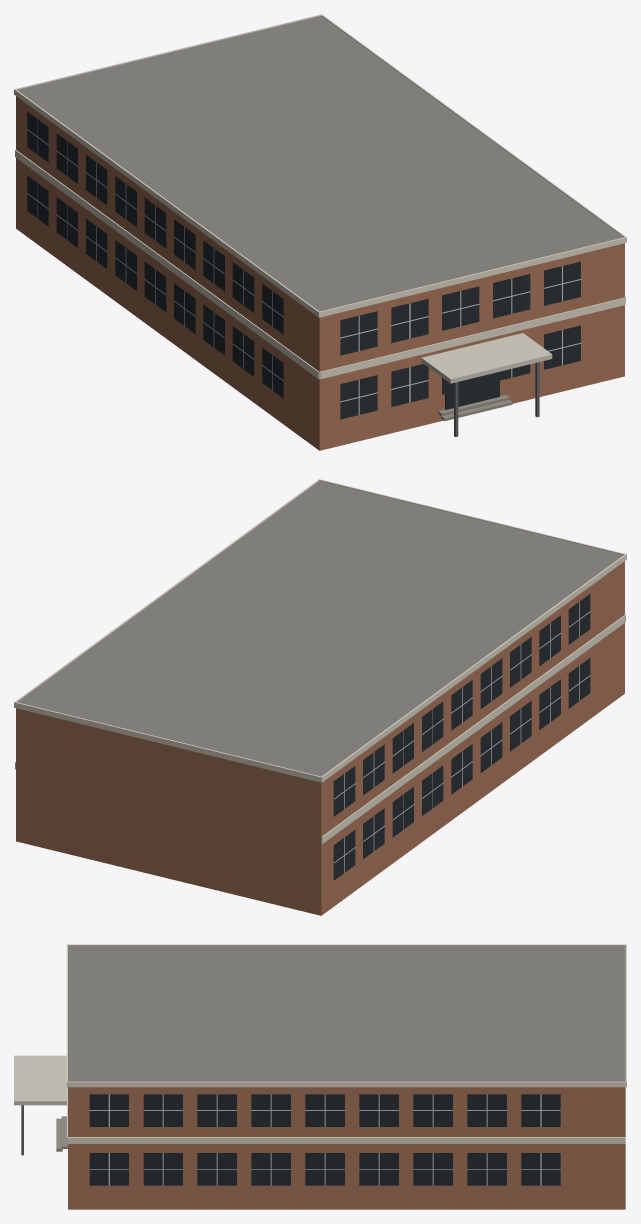
Rendered from cazort-johnson-clinic.glb.
3 views of the same model, one above another, from view 1: azimuth 30°, elevation 25°; view 2: azimuth 150°, elevation 25°; view 3: azimuth 270°, elevation 25° (orthographic). The views are drawn at different scales.
Parts seen in each view (by area): view 1: cazort_roof, cazort_brick, cazort_glass, cazort_stone, cazort_canopy, cazort_sash, cazort_base; view 2: cazort_roof, cazort_brick, cazort_glass, cazort_stone, cazort_sash; view 3: cazort_roof, cazort_brick, cazort_glass, cazort_stone, cazort_canopy, cazort_sash, cazort_base.
Boxes of the visible parts, box(x1,y1,x2,y2) form: cazort_roof: box(17, 16, 623, 311); cazort_brick: box(16, 96, 624, 450); cazort_glass: box(27, 112, 580, 419); cazort_stone: box(14, 14, 626, 379); cazort_canopy: box(421, 333, 552, 383); cazort_sash: box(27, 119, 581, 414); cazort_base: box(438, 395, 512, 420); cazort_roof: box(17, 481, 623, 776); cazort_brick: box(16, 561, 624, 915); cazort_glass: box(333, 594, 590, 880); cazort_stone: box(14, 479, 626, 844); cazort_sash: box(334, 601, 590, 872); cazort_roof: box(68, 945, 625, 1081); cazort_brick: box(68, 1087, 625, 1209); cazort_glass: box(89, 1094, 560, 1185); cazort_stone: box(66, 944, 626, 1143); cazort_canopy: box(14, 1055, 66, 1105); cazort_sash: box(89, 1094, 560, 1185); cazort_base: box(56, 1116, 67, 1151).
Size of the model in its own units: 18.16 by 7.85 by 34.08.
